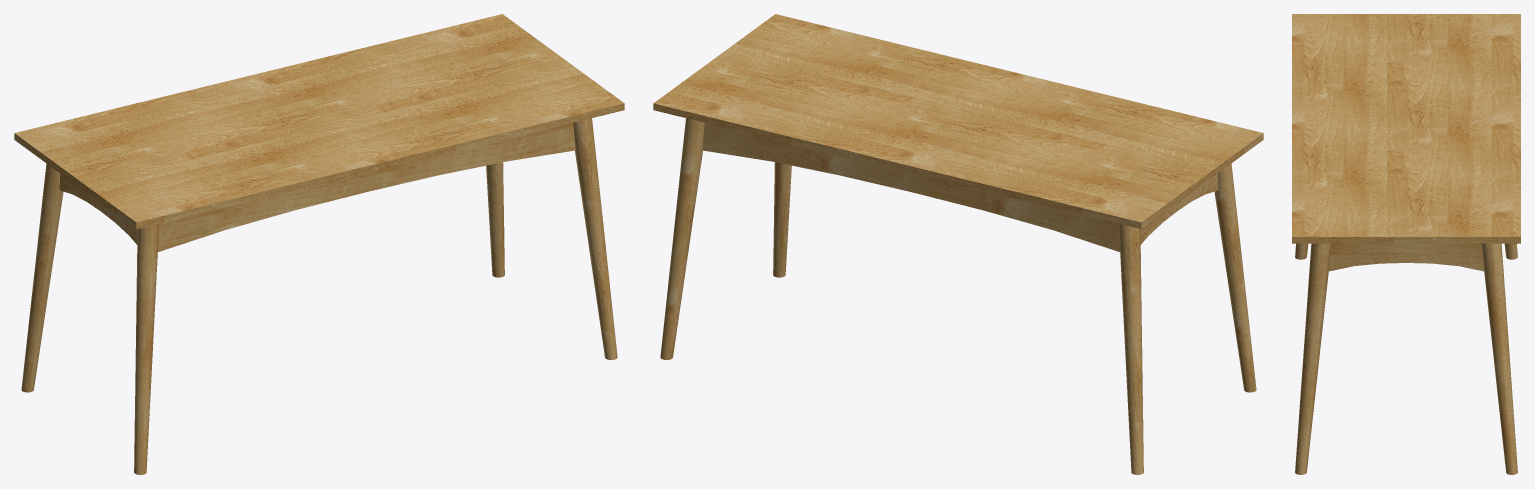
The model's file is table-with-leaning-feet.obj.
3 views of the same model, side by side, from view 1: azimuth 30°, elevation 25°; view 2: azimuth 150°, elevation 25°; view 3: azimuth 270°, elevation 25° (orthographic). The views are drawn at different scales.
Parts seen in each view (by area): view 1: table_Cube.001, legs_Cylinder; view 2: table_Cube.001, legs_Cylinder; view 3: table_Cube.001, legs_Cylinder.
Boxes of the visible parts, x1=… form: table_Cube.001: x1=14, y1=14, x2=624, y2=229; legs_Cylinder: x1=21, y1=118, x2=617, y2=474; table_Cube.001: x1=653, y1=14, x2=1263, y2=229; legs_Cylinder: x1=660, y1=118, x2=1256, y2=474; table_Cube.001: x1=1292, y1=14, x2=1520, y2=243; legs_Cylinder: x1=1295, y1=243, x2=1517, y2=474.
Bounding box in the file's own units: 150 × 75 × 65.
